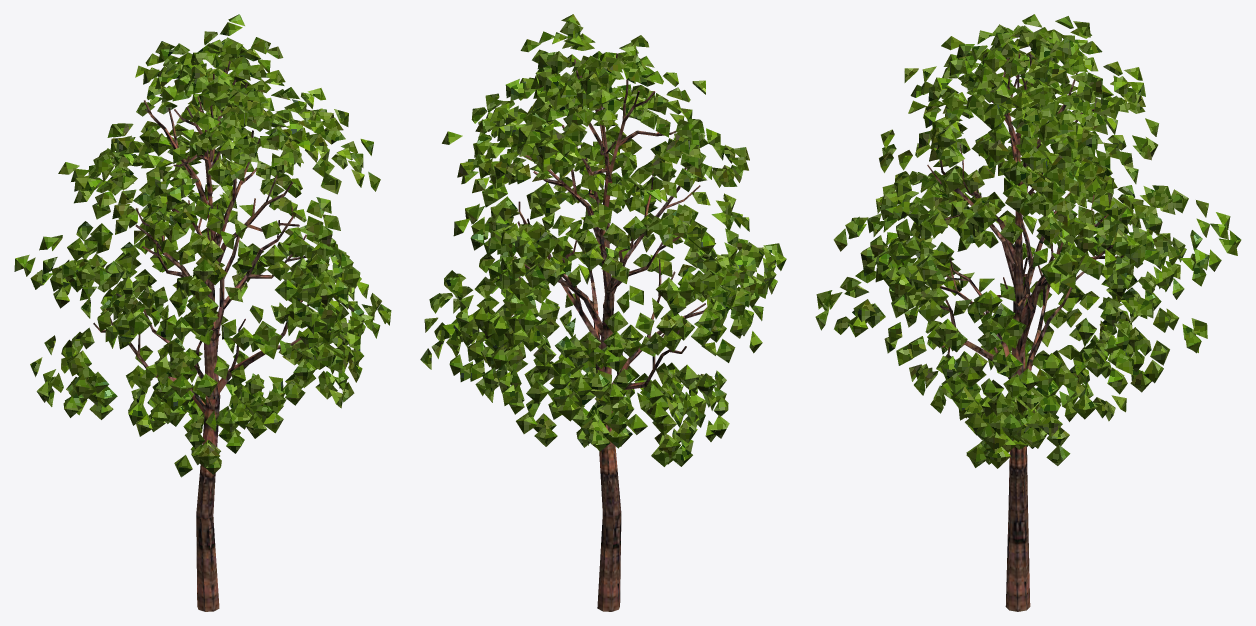
File: simple-texture-tree-1.glb
The picture shows the model from 3 angles, left to right: view 1: azimuth 30°, elevation 25°; view 2: azimuth 150°, elevation 25°; view 3: azimuth 270°, elevation 25°; orthographic projection. The views are drawn at different scales.
Parts seen in each view (by area): view 1: 3DGeom~203_Defintion, 3DGeom~202_Defintion; view 2: 3DGeom~203_Defintion, 3DGeom~202_Defintion; view 3: 3DGeom~203_Defintion, 3DGeom~202_Defintion.
Part boxes in pixels (bbox=[...]): 3DGeom~203_Defintion: bbox=[14, 14, 391, 477]; 3DGeom~202_Defintion: bbox=[93, 61, 337, 611]; 3DGeom~203_Defintion: bbox=[420, 14, 786, 466]; 3DGeom~202_Defintion: bbox=[517, 53, 707, 611]; 3DGeom~203_Defintion: bbox=[815, 14, 1241, 468]; 3DGeom~202_Defintion: bbox=[927, 52, 1123, 611].
Size of the model in its own units: 5.54 by 8.77 by 5.59.
2 materials, 2 textured.
